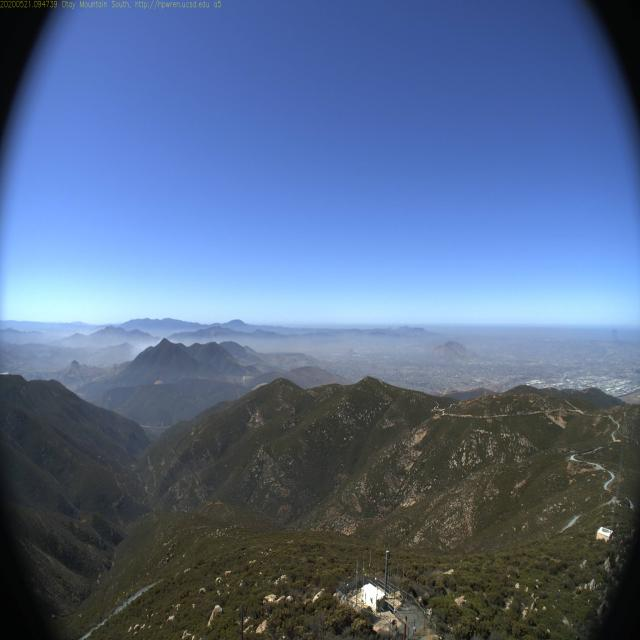smoke: (126, 335, 180, 359)
